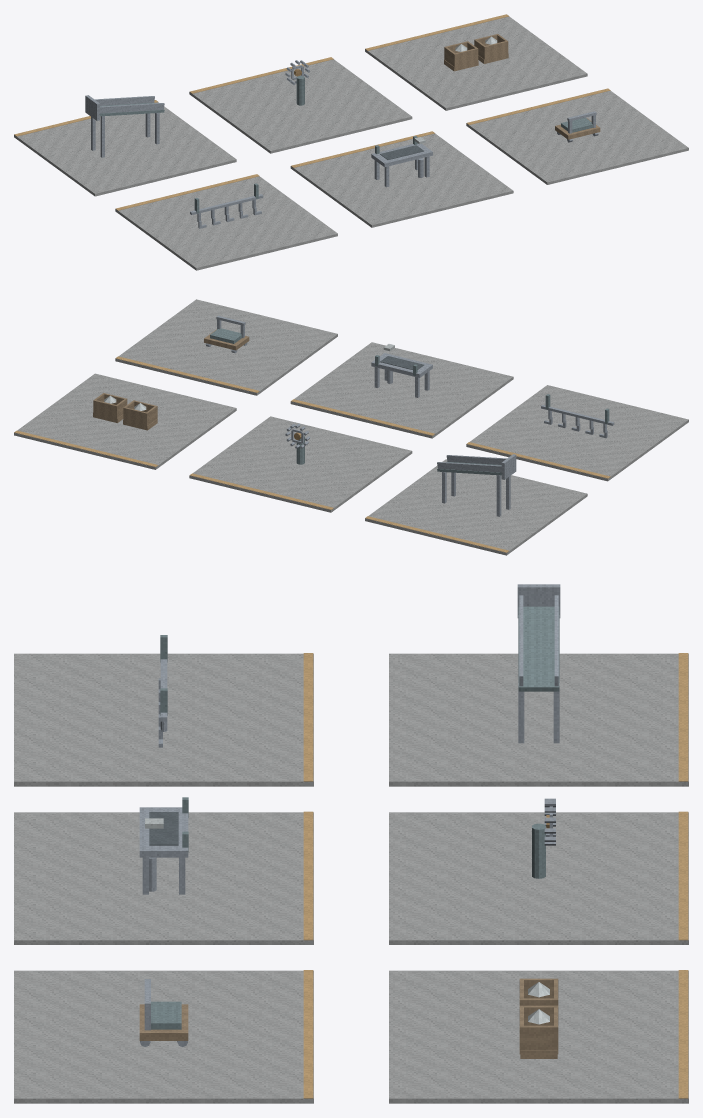
File: level_blockout_kit_wld_13_p04.glb
3 views of the same model, one above another, from view 1: azimuth 30°, elevation 25°; view 2: azimuth 150°, elevation 25°; view 3: azimuth 270°, elevation 25° (orthographic). The views are drawn at different scales.
Parts seen in each view (by area): view 1: level_blockout_kit_wld_13_p04; view 2: level_blockout_kit_wld_13_p04; view 3: level_blockout_kit_wld_13_p04.
Boxes of the visible parts, <box> form: level_blockout_kit_wld_13_p04: <box>14,14,688,270</box>; level_blockout_kit_wld_13_p04: <box>14,299,688,555</box>; level_blockout_kit_wld_13_p04: <box>14,584,688,1103</box>.
Size of the model in its own units: 19.65 by 2.21 by 12.6.
8 materials, 8 textured.
